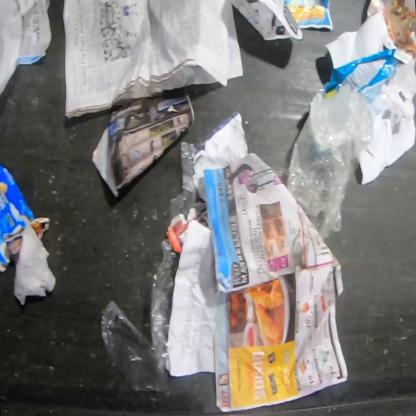cardboard: (0, 165, 35, 273)
soft_plastic: (285, 89, 374, 240), (99, 238, 181, 392), (318, 50, 399, 99), (171, 142, 204, 221)
